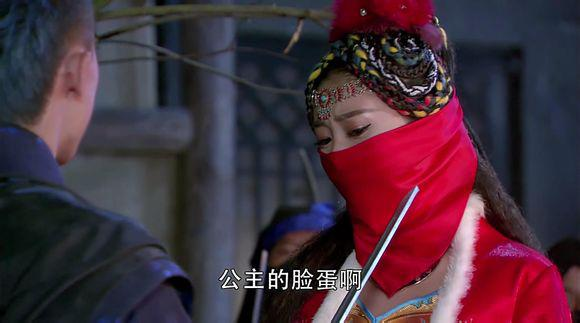OK: (311, 109, 408, 206)
